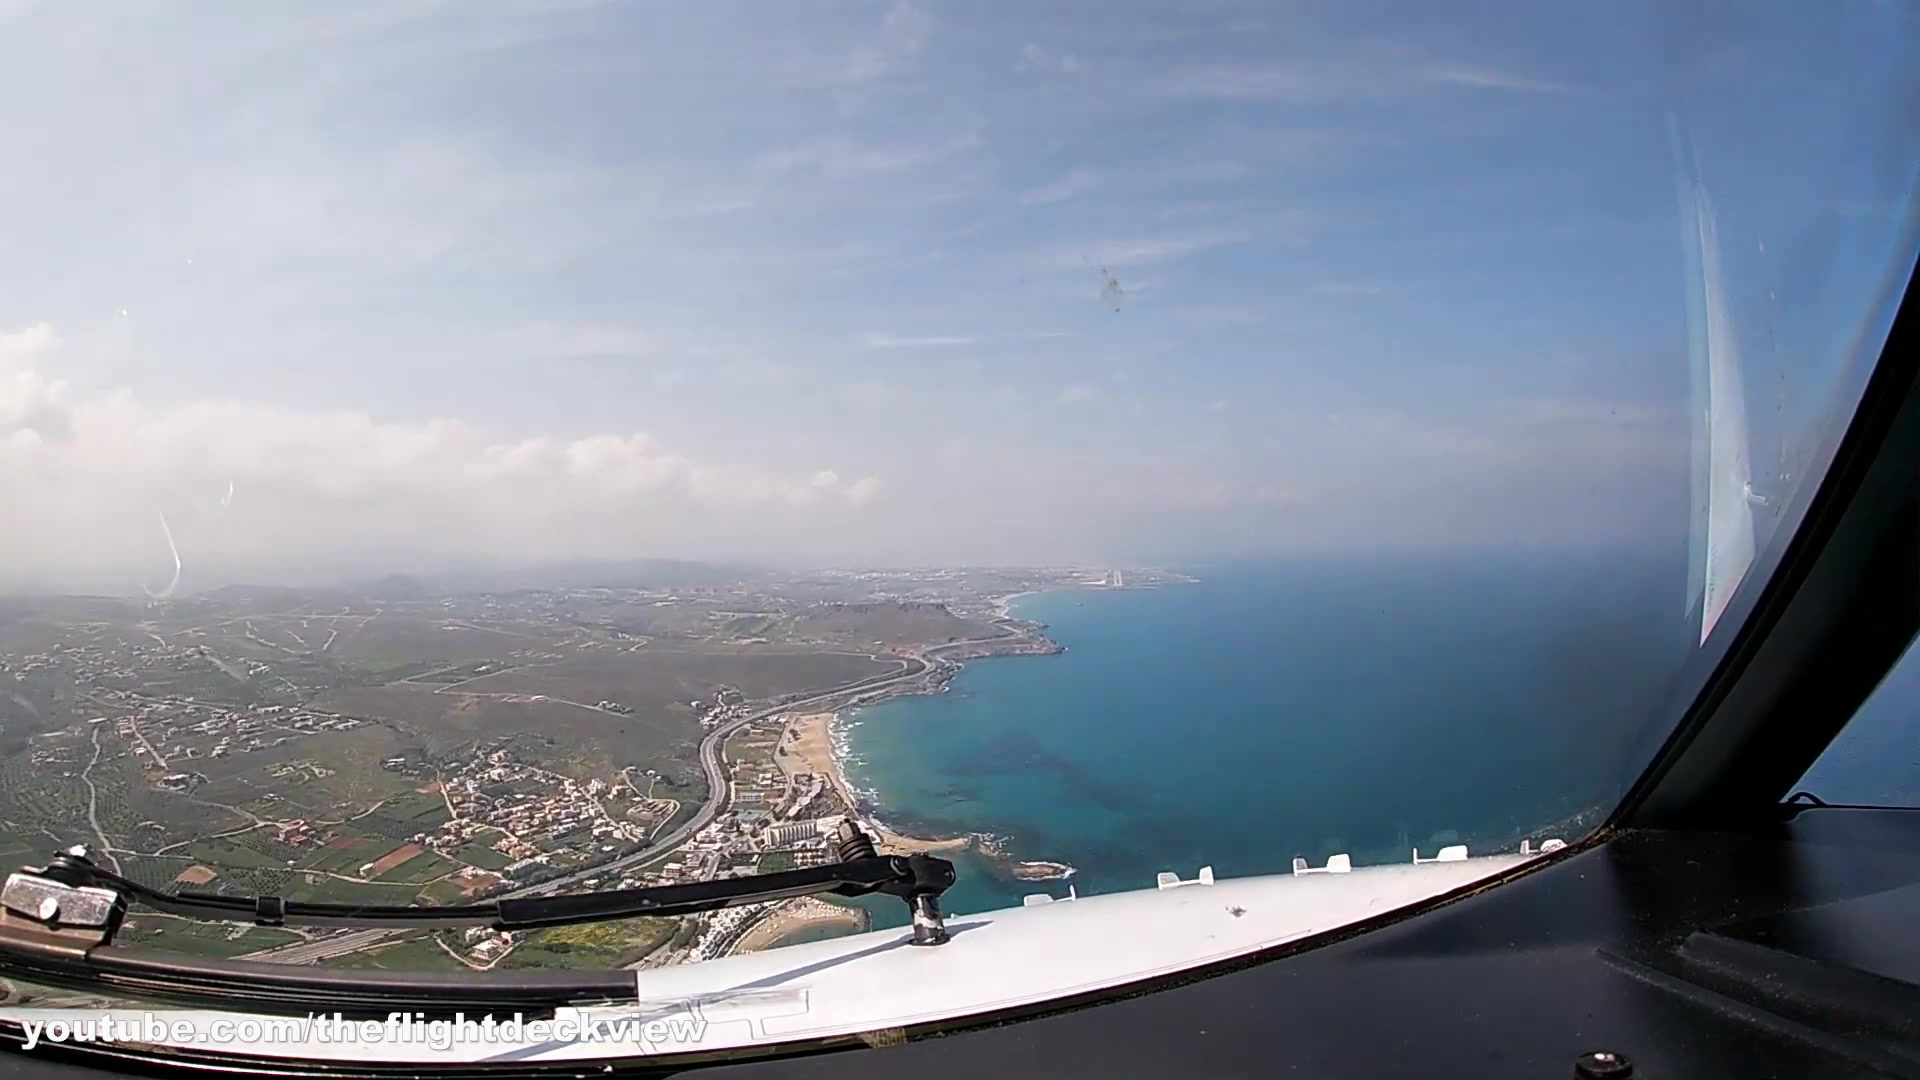runway: (1112, 570, 1122, 588)
